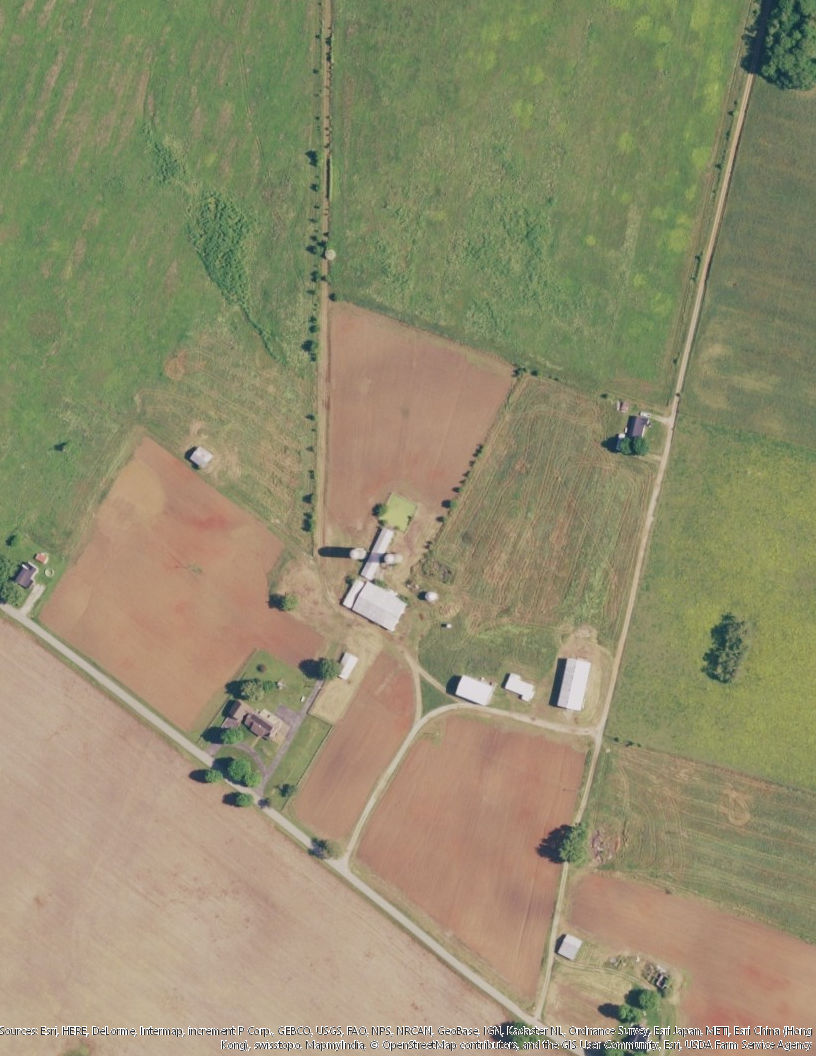cafo: (339, 575, 412, 634), (358, 525, 403, 582), (558, 653, 596, 719), (456, 670, 501, 706)
